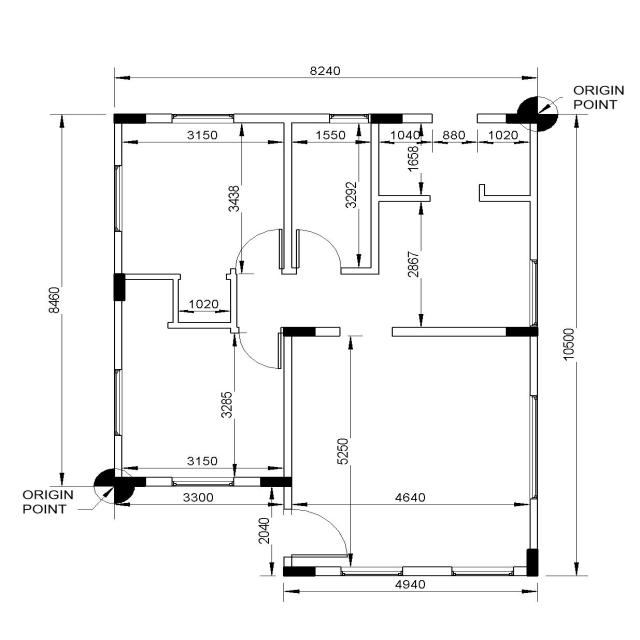Column: (506, 113, 538, 124), (114, 113, 146, 124), (526, 548, 538, 576), (283, 326, 316, 336), (283, 566, 316, 576), (506, 326, 538, 336), (260, 477, 292, 487), (114, 477, 146, 487), (370, 114, 402, 124), (114, 273, 125, 301)
Door: (283, 508, 349, 558), (230, 228, 285, 275), (291, 228, 342, 274), (236, 327, 283, 370)
Window: (530, 396, 538, 500), (171, 476, 234, 486), (451, 566, 514, 576), (172, 114, 234, 124), (341, 566, 403, 576), (530, 259, 538, 327), (114, 165, 122, 232), (114, 369, 122, 436), (329, 114, 369, 124)
